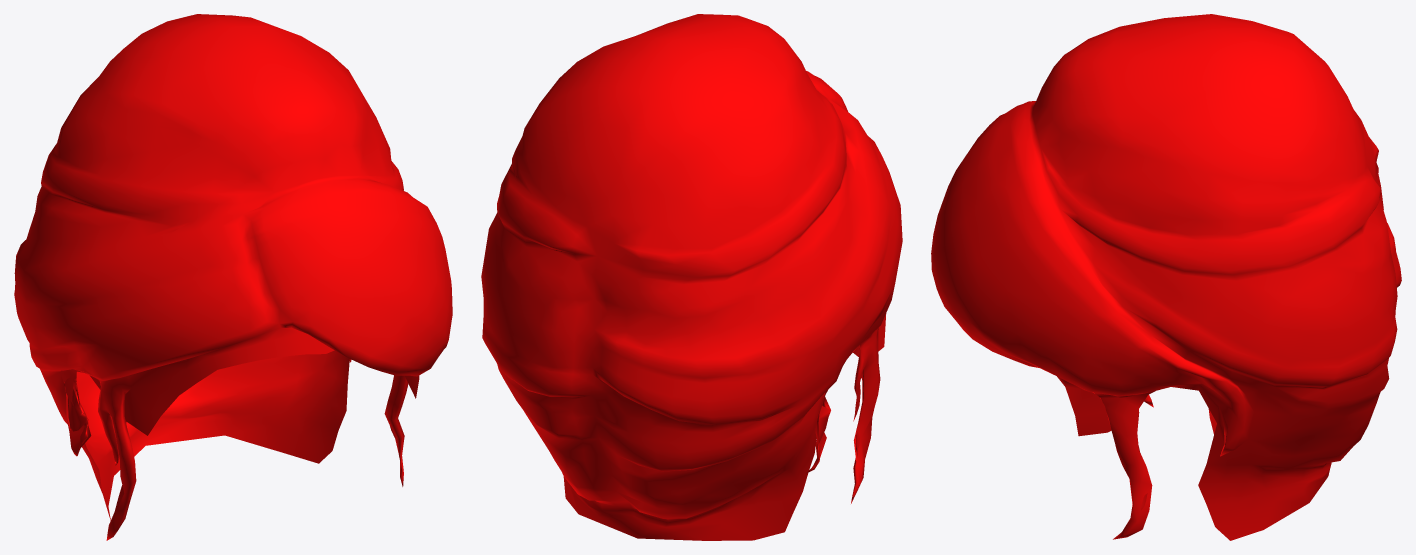
The model's file is elvs_50s_updo_M.glb.
The picture shows the model from 3 angles, left to right: view 1: azimuth 30°, elevation 25°; view 2: azimuth 150°, elevation 25°; view 3: azimuth 270°, elevation 25°; orthographic projection.
Bounding box in the file's own units: 0.1935 × 0.2469 × 0.227.
Materials: 1 (1 with a texture image).
